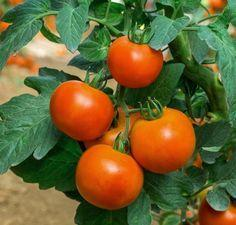healthy-tomato: (132, 98, 198, 176), (77, 145, 145, 210), (52, 81, 115, 142), (108, 37, 164, 90), (87, 105, 143, 158), (199, 186, 236, 225)
